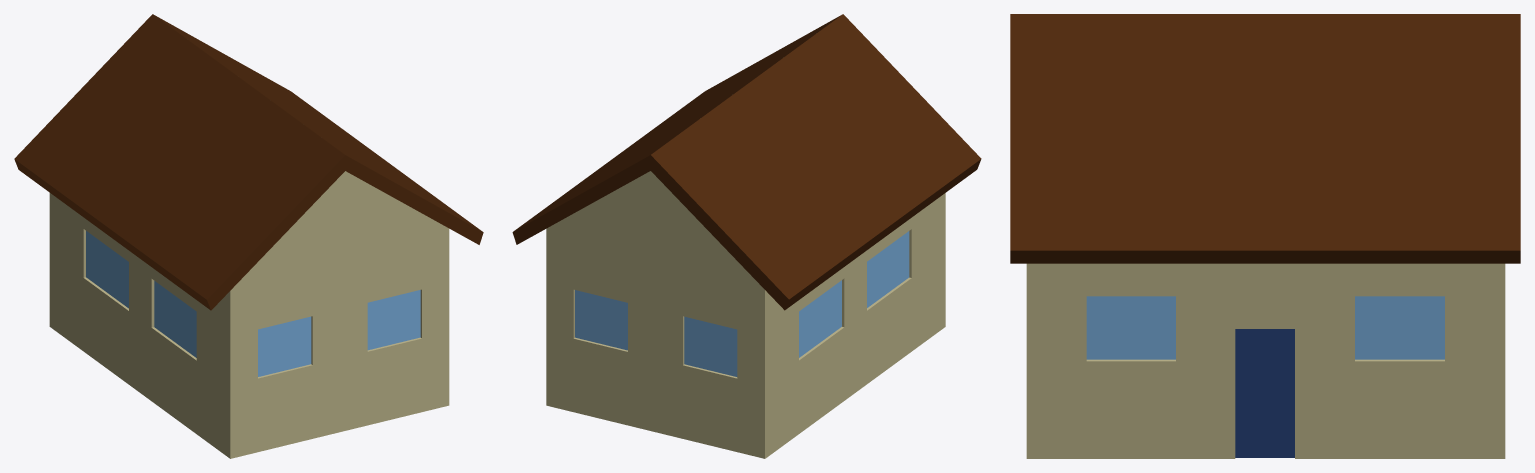
Rendered from house2.fbx.
3 views of the same model, side by side, from view 1: azimuth 30°, elevation 25°; view 2: azimuth 150°, elevation 25°; view 3: azimuth 270°, elevation 25° (orthographic). The views are drawn at different scales.
Visible parts, largest first — view 1: Cube; view 2: Cube; view 3: Cube.
Boxes of the visible parts, left/top/right/bottom form: Cube: left=14, top=14, right=483, bottom=458; Cube: left=512, top=14, right=981, bottom=458; Cube: left=1010, top=14, right=1520, bottom=458.
Size of the model in its own units: 885 by 861 by 1067.
